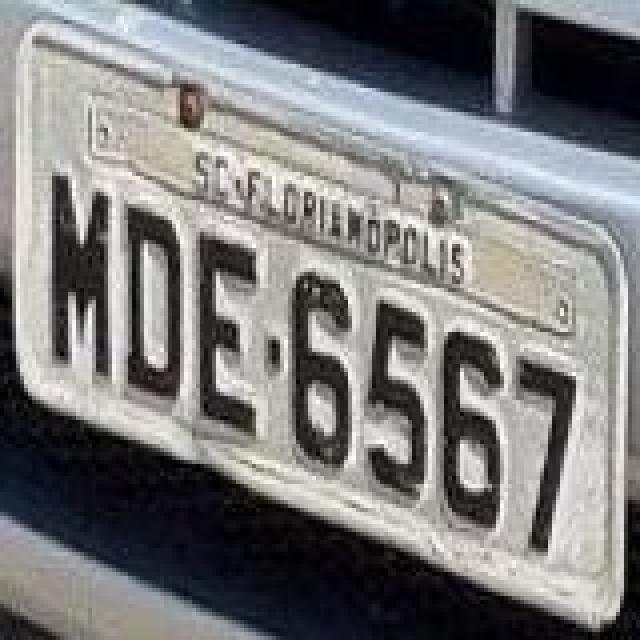5: (364, 300, 428, 500)
6: (440, 328, 504, 536), (288, 268, 352, 468)
7: (516, 356, 580, 556)
D: (122, 204, 182, 404)
E: (196, 230, 260, 442)
M: (50, 172, 110, 380)
